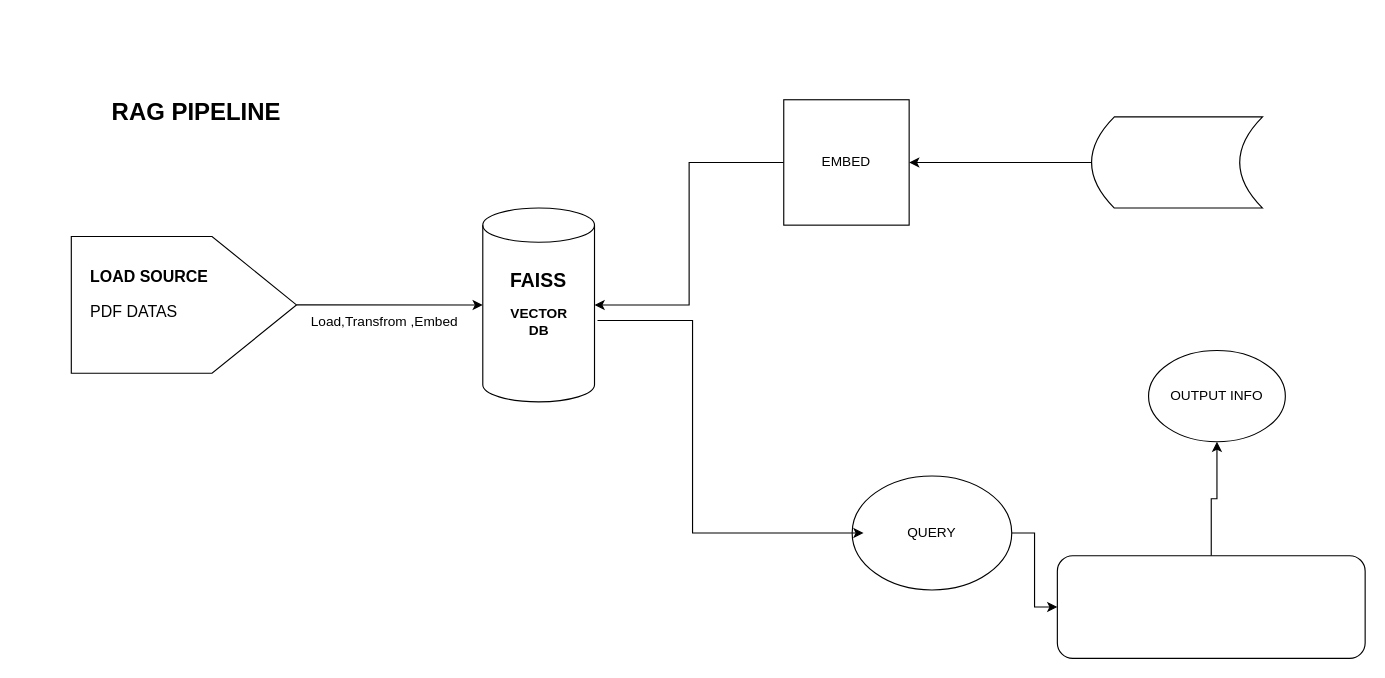
Image size: 1385x678. Some labels were removed from this diagram. The shapes that lost their labels are listed below. From the top down, each one's centre as x and y in pixels, then its label:
At point 1176,162: "Incoming QUERY".
At point 1210,606: "LLM [we used both localy run llma3 and Groq api]".
